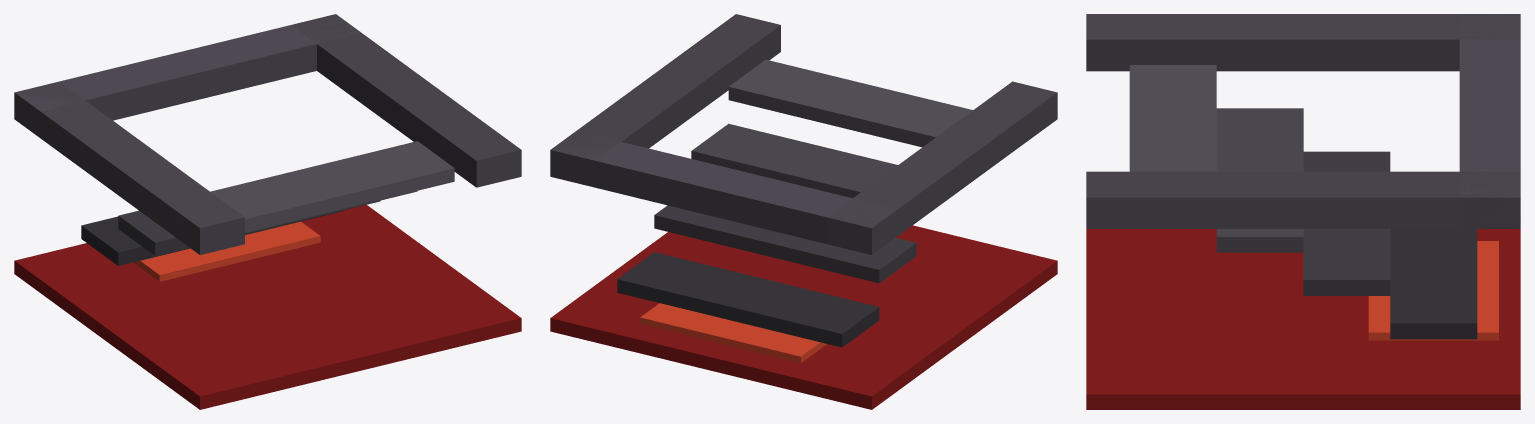
Rendered from t_stairs_1.glb.
3 views of the same model, side by side, from view 1: azimuth 30°, elevation 25°; view 2: azimuth 150°, elevation 25°; view 3: azimuth 270°, elevation 25° (orthographic). The views are drawn at different scales.
Parts seen in each view (by area): view 1: t_stairs_1; view 2: t_stairs_1; view 3: t_stairs_1.
Part boxes in pixels (left/top/right/bottom): t_stairs_1: left=14, top=14, right=521, bottom=409; t_stairs_1: left=550, top=14, right=1057, bottom=409; t_stairs_1: left=1086, top=14, right=1520, bottom=409.
Size of the model in its own units: 1 by 0.54 by 1.
